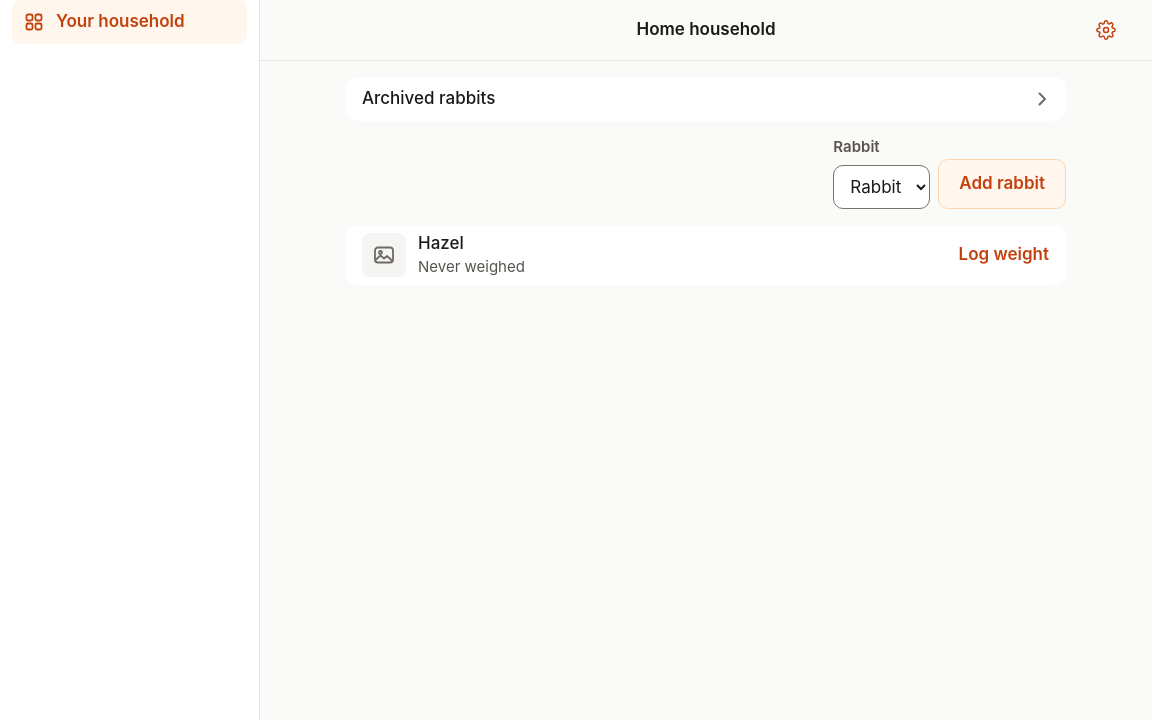
Test: opens the form from the toolbar on a non-empty dashboard
This screenshot has width=1152, height=720.
Expected: the element that starts with "Home household" is shown, [260,0,1151,285]
Expected: the text "Hazel" is shown, [418,233,464,253]
Click the button "Add rabbit" at coordinates (1002, 184), box [938,159,1066,209]
(page scrolled)
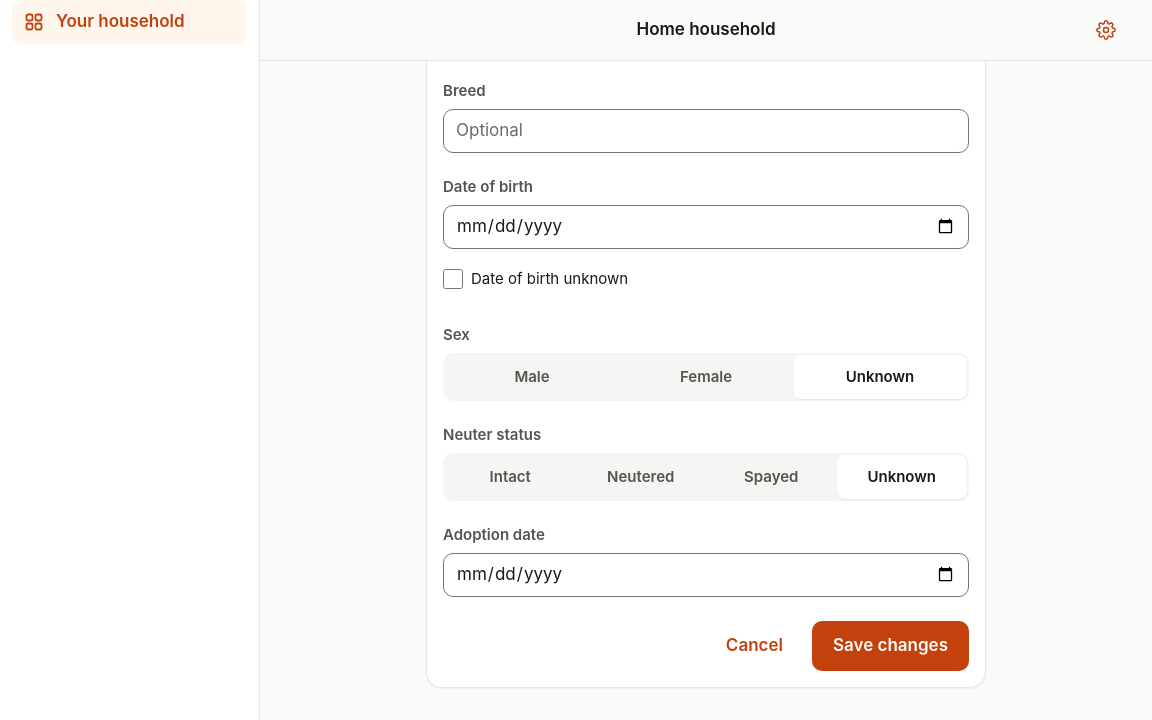
Click the button "Cancel" at coordinates (754, 646), box [705,621,804,671]
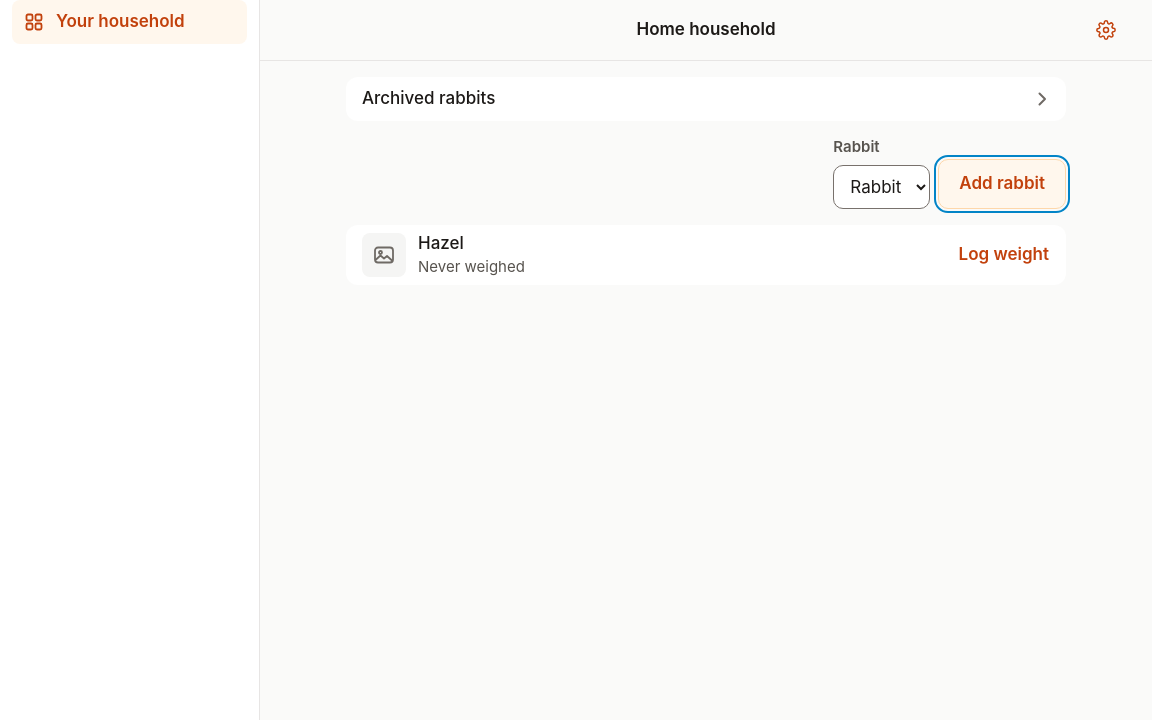
Expected: the text "Hazel" is shown, [418,233,464,253]
